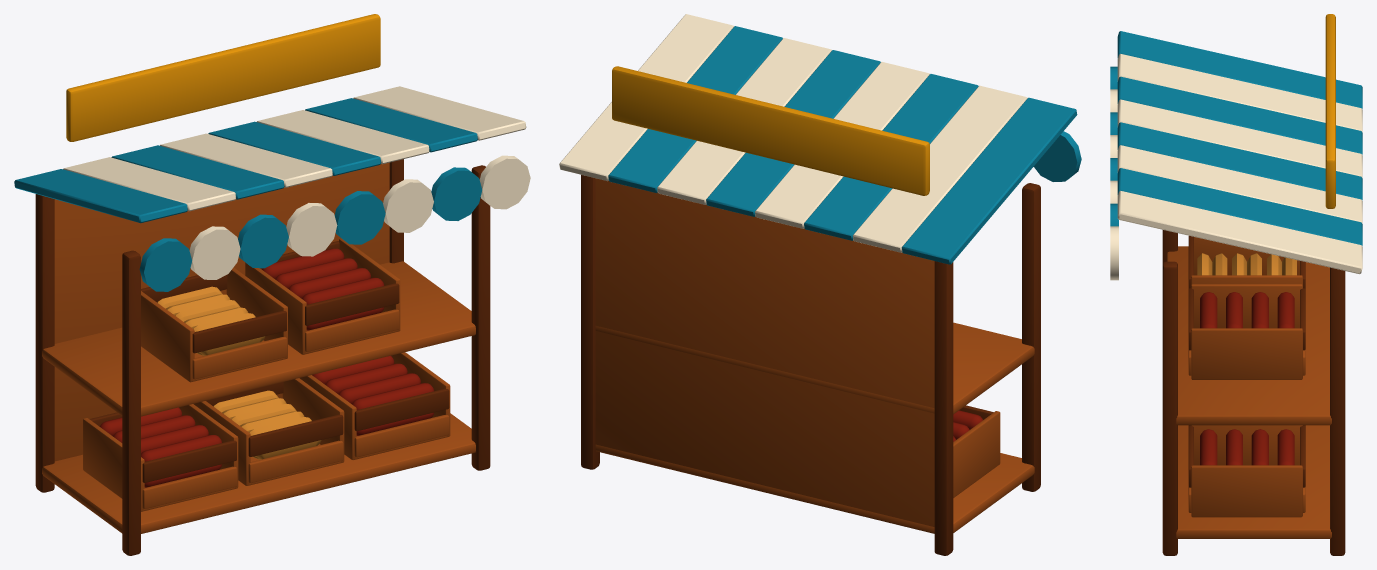
Rendered from IngredientRack.fbx.
The picture shows the model from 3 angles, left to right: view 1: azimuth 30°, elevation 25°; view 2: azimuth 150°, elevation 25°; view 3: azimuth 270°, elevation 25°; orthographic projection. The views are drawn at different scales.
Parts seen in each view (by area): view 1: IngredientRack; view 2: IngredientRack; view 3: IngredientRack.
Part boxes in pixels (left/top/right/bottom): IngredientRack: left=14, top=14, right=530, bottom=555; IngredientRack: left=559, top=14, right=1081, bottom=555; IngredientRack: left=1110, top=14, right=1362, bottom=555.
Size of the model in its own units: 6.2 by 6.1 by 3.62.
